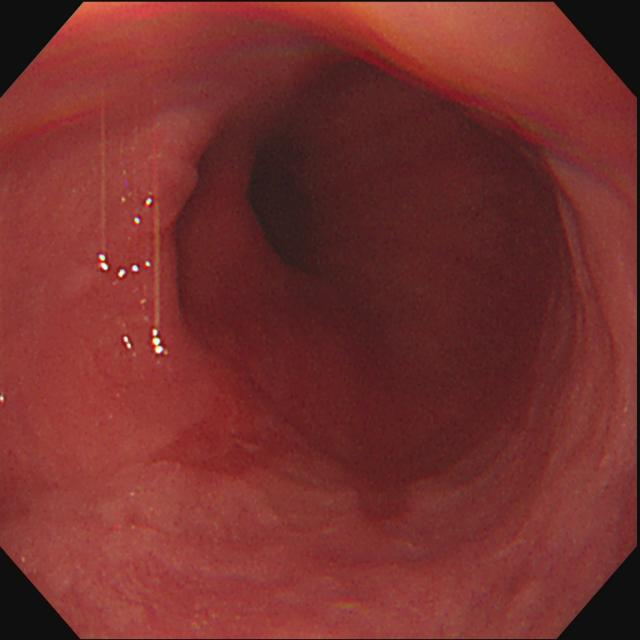D: (149, 401, 283, 477)
E: (237, 133, 335, 295)
U: (98, 251, 154, 280), (151, 327, 172, 359), (135, 193, 155, 226), (122, 334, 133, 350)
